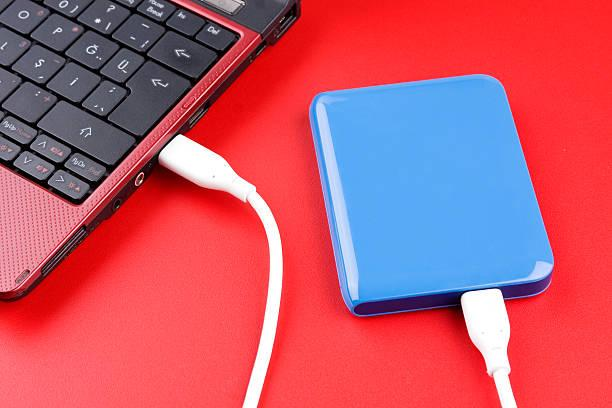HDD: (308, 74, 555, 319)
